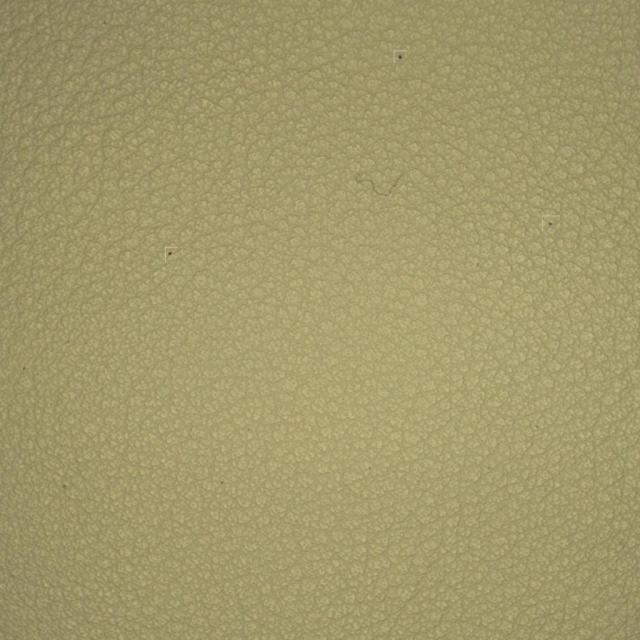Bacterial Injury: (287, 109, 482, 267)
pinhole: (349, 5, 458, 109)
